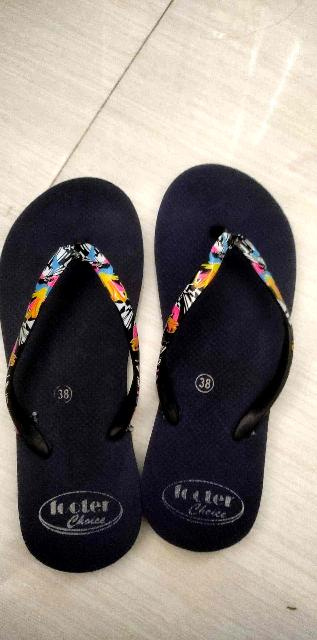sandal: (110, 130, 317, 587), (3, 158, 141, 562)
